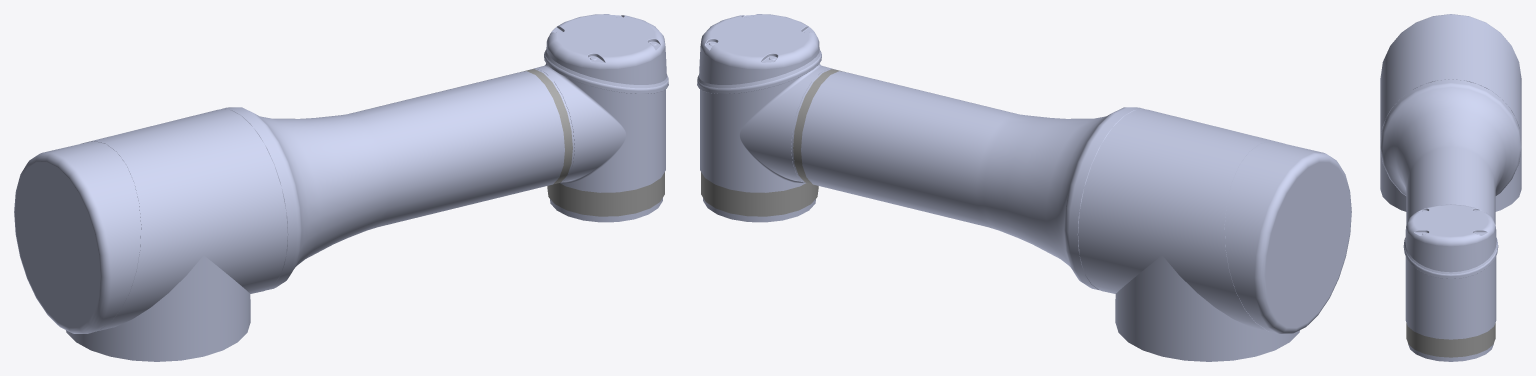
3 views of the same model, side by side, from view 1: azimuth 30°, elevation 25°; view 2: azimuth 150°, elevation 25°; view 3: azimuth 270°, elevation 25° (orthographic). The views are drawn at different scales.
Parts seen in each view (by area): view 1: FBXASC195FBXASC148FBXASC194FBXASC178FBXASC194FBXASC189FBXASC; view 2: FBXASC195FBXASC148FBXASC194FBXASC178FBXASC194FBXASC189FBXASC; view 3: FBXASC195FBXASC148FBXASC194FBXASC178FBXASC194FBXASC189FBXASC.
Boxes of the visible parts, left/top/right/bottom form: FBXASC195FBXASC148FBXASC194FBXASC178FBXASC194FBXASC189FBXASC: left=14, top=14, right=668, bottom=361; FBXASC195FBXASC148FBXASC194FBXASC178FBXASC194FBXASC189FBXASC: left=697, top=14, right=1351, bottom=361; FBXASC195FBXASC148FBXASC194FBXASC178FBXASC194FBXASC189FBXASC: left=1380, top=14, right=1521, bottom=361.
Size of the model in its own units: 0.6837 by 0.184 by 0.202.
